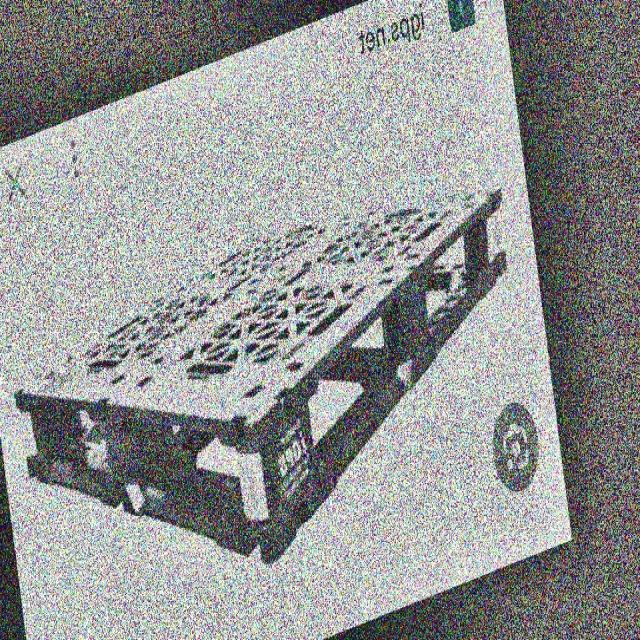igps: (11, 180, 557, 574)
